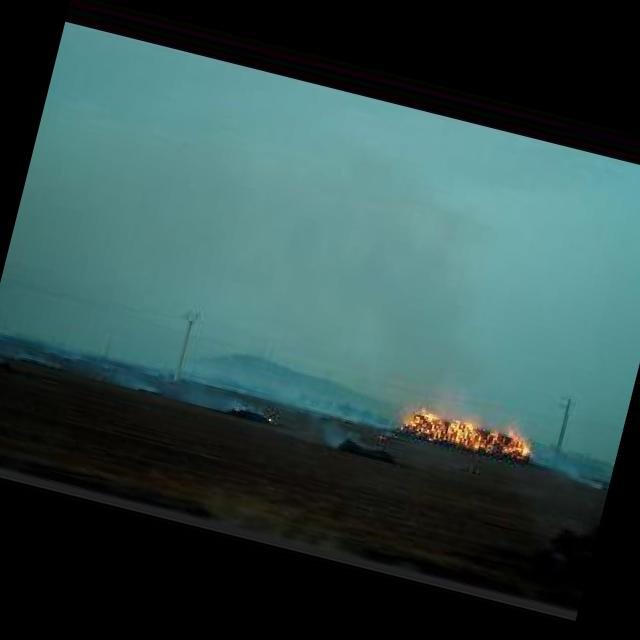Fire: (396, 398, 540, 468)
